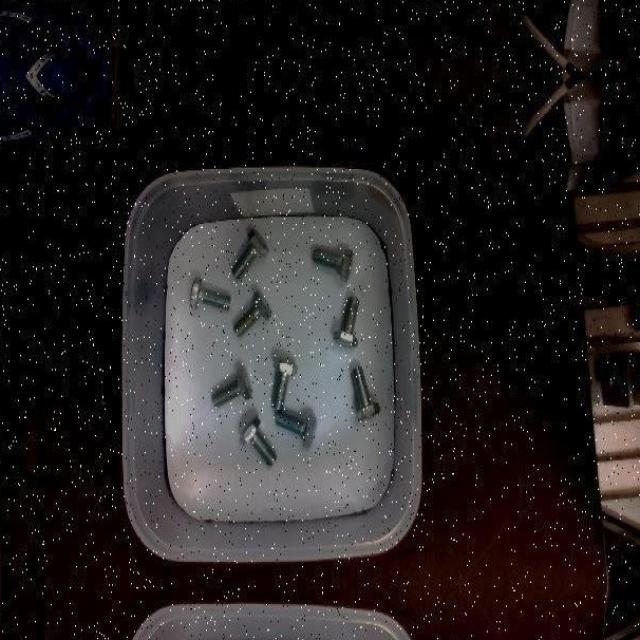screw: (240, 415, 278, 467), (232, 228, 270, 279), (234, 289, 272, 336), (212, 367, 252, 407), (276, 411, 318, 447), (352, 366, 380, 420), (190, 276, 231, 311), (273, 358, 299, 411), (314, 247, 354, 281), (333, 295, 359, 347)
